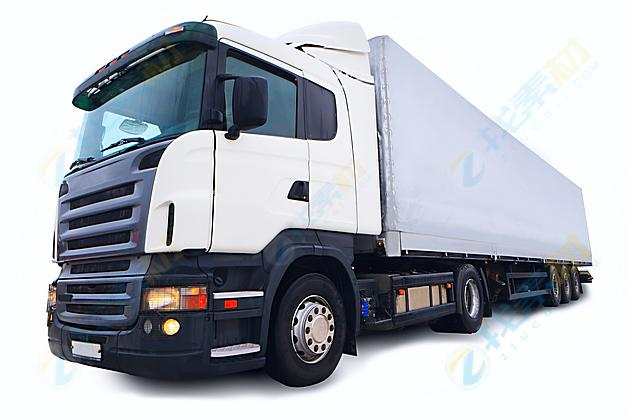truck: (37, 11, 601, 388)
